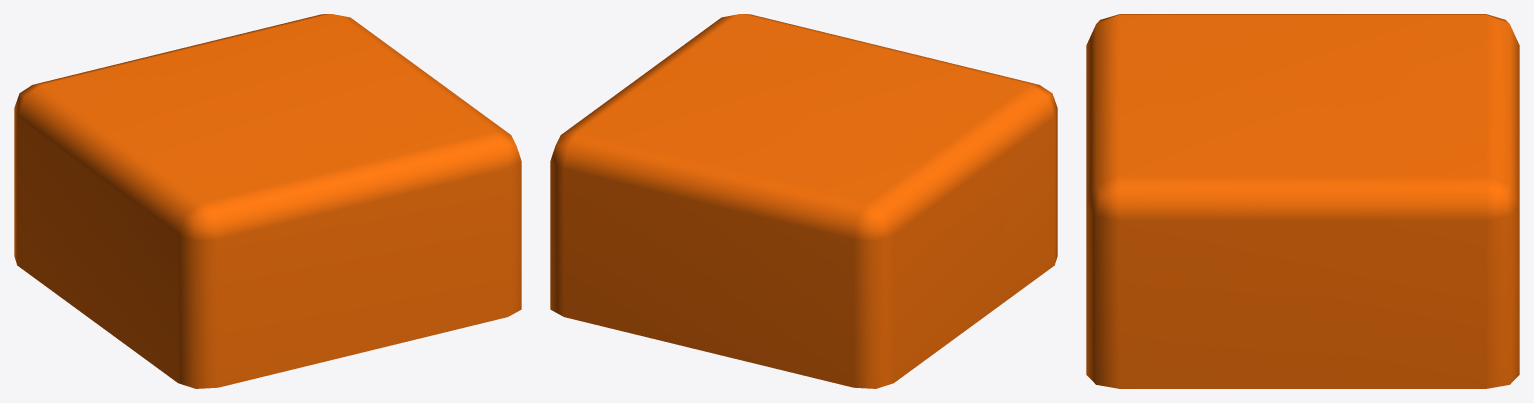
The picture shows the model from 3 angles, left to right: view 1: azimuth 30°, elevation 25°; view 2: azimuth 150°, elevation 25°; view 3: azimuth 270°, elevation 25°; orthographic projection. The views are drawn at different scales.
Parts seen in each view (by area): view 1: base_02; view 2: base_02; view 3: base_02.
Part boxes in pixels (bbox=[...]): base_02: bbox=[14, 14, 521, 388]; base_02: bbox=[550, 14, 1057, 388]; base_02: bbox=[1086, 14, 1519, 388].
Bounding box in the file's own units: 760 × 372 × 736.
